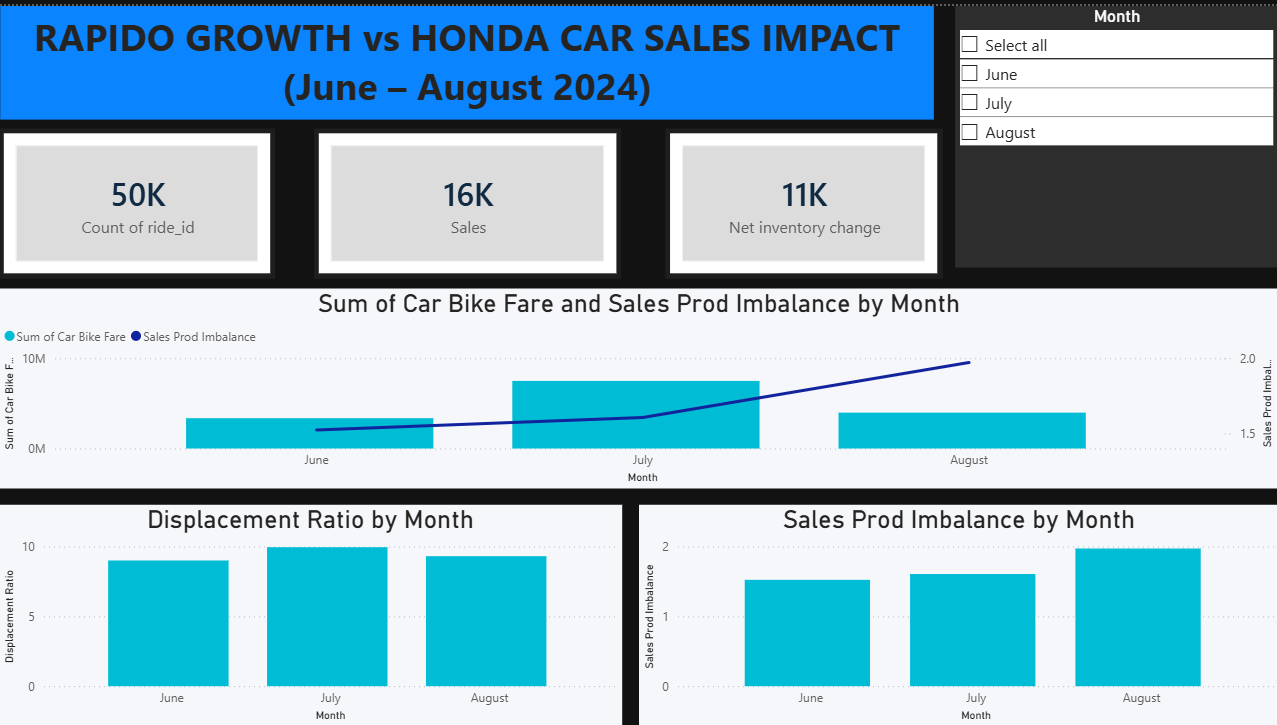

Layout of this report page (visuals, bound fields, positions):
{"tool":"powerbi","page":{"name":"Combined dashboard","canvas":[1280,720],"ordinal":2},"visuals":[{"type":"textbox","box":[1.2,0,933.8,113.8],"z":0},{"type":"listSlicer","fields":{"Values":["honda_sales_production_2024.Month_Year.Variation.Date Hierarchy.Month"]},"box":[956.2,0,323.8,261.2],"z":1000},{"type":"cardVisual","fields":{"Data":["Count(rides_data.ride_id)"]},"box":[0,122.5,276.2,150],"z":2000},{"type":"cardVisual","fields":{"Data":["honda_sales_production_2024.Sales"]},"box":[315,122.5,307.5,150],"z":3000},{"type":"columnChart","fields":{"Y":["honda_sales_production_2024.Displacement Ratio"],"Category":["honda_sales_production_2024.Month_Year.Variation.Date Hierarchy.Month"]},"box":[0,498.6,622.9,221.4],"z":4000},{"type":"cardVisual","fields":{"Data":["honda_sales_production_2024.Net inventory change"]},"box":[666.2,122.5,277.5,150],"z":5000},{"type":"columnChart","fields":{"Category":["honda_sales_production_2024.Month_Year.Variation.Date Hierarchy.Month"],"Y":["honda_sales_production_2024.Sales Prod Imbalance"]},"box":[640,498.6,640,221.4],"z":6000},{"type":"lineStackedColumnComboChart","fields":{"Category":["DimDate.Month"],"Y":["rides_data.Sum of Car Bike Fare"],"Y2":["honda_sales_production_2024.Sales Prod Imbalance"]},"box":[0,282.5,1280,200],"z":7000}]}

Visuals, with their boxes in screenshot pixels (x1, y1, x2, y2), scaled from the page's 1280x720 canvas onto the 1277x725 screenshot:
textbox: <box>1,0,933,115</box>
listSlicer - honda_sales_production_2024.Month_Year.Variation.Date Hierarchy.Month: <box>954,0,1276,263</box>
cardVisual - Count(rides_data.ride_id): <box>0,123,276,274</box>
cardVisual - honda_sales_production_2024.Sales: <box>314,123,621,274</box>
columnChart - honda_sales_production_2024.Displacement Ratio x honda_sales_production_2024.Month_Year.Variation.Date Hierarchy.Month: <box>0,502,621,724</box>
cardVisual - honda_sales_production_2024.Net inventory change: <box>665,123,941,274</box>
columnChart - honda_sales_production_2024.Month_Year.Variation.Date Hierarchy.Month x honda_sales_production_2024.Sales Prod Imbalance: <box>638,502,1276,724</box>
lineStackedColumnComboChart - DimDate.Month x rides_data.Sum of Car Bike Fare: <box>0,284,1276,486</box>
